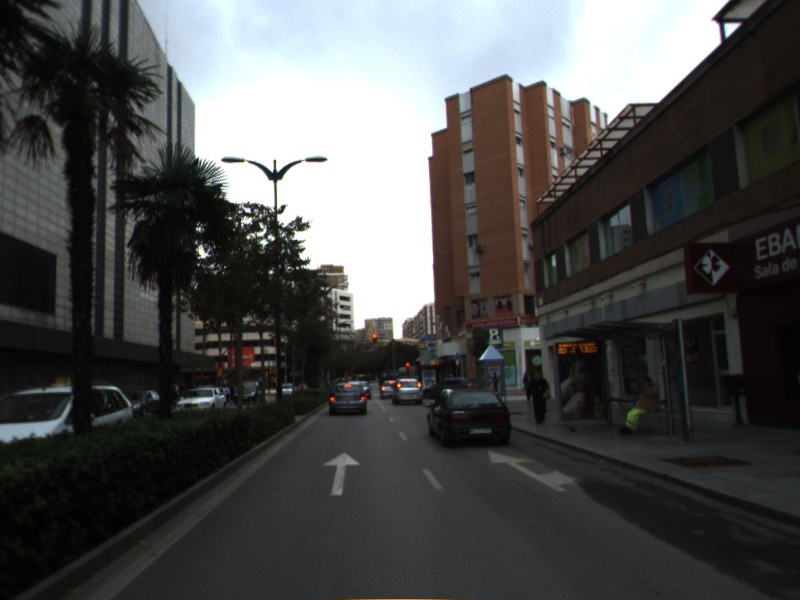STRAIGHT: (320, 450, 363, 497)
STRAIGHT_RIGHT: (486, 449, 584, 493)
